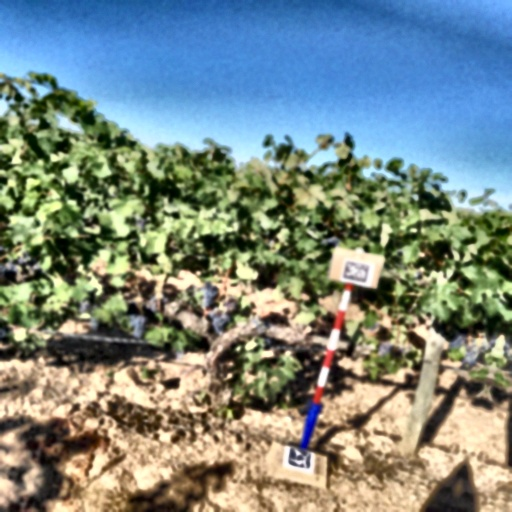QR: (340, 258, 373, 286), (285, 444, 315, 471)
